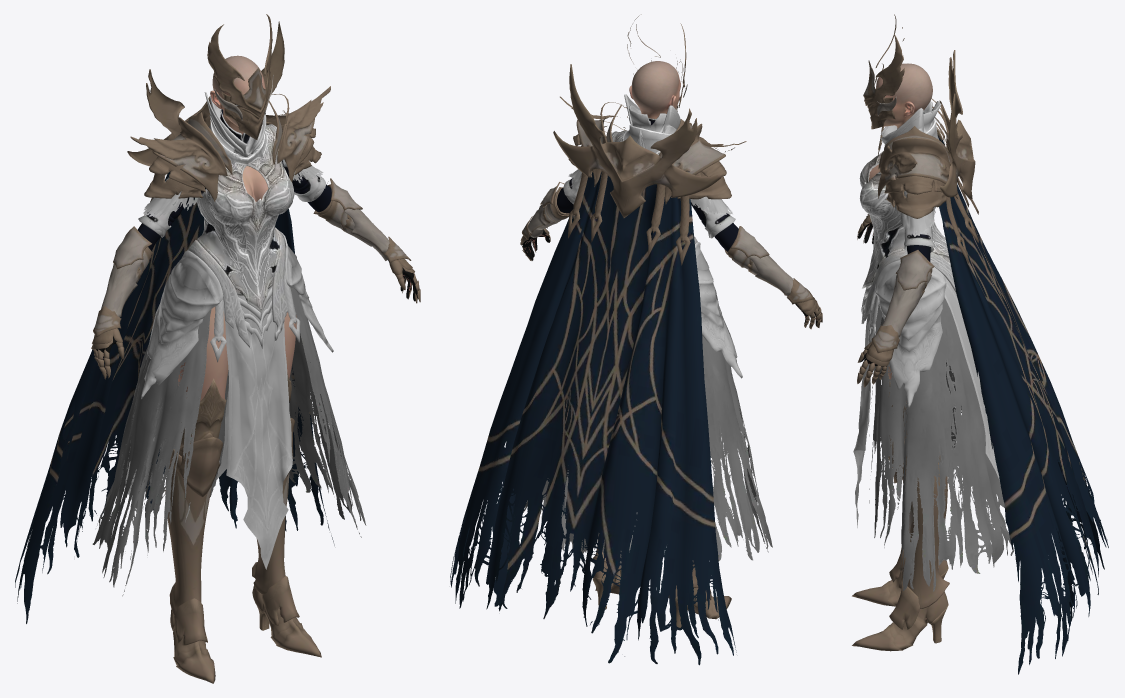
The picture shows the model from 3 angles, left to right: view 1: azimuth 30°, elevation 25°; view 2: azimuth 150°, elevation 25°; view 3: azimuth 270°, elevation 25°; orthographic projection. The views are drawn at different scales.
Parts seen in each view (by area): view 1: GF_Idris_01_Body, GF_Idris_01_Cape, GF_Idris_01_Boots, GF_Idris_01_Shoulder, GF_Idris_01_Glove, GF_Idris_01_Helmet, GF_Idris_01_Pants, GF_BaseHead; view 2: GF_Idris_01_Cape, GF_Idris_01_Body, GF_Idris_01_Glove, GF_Idris_01_Shoulder, GF_BaseHead, GF_Idris_01_Boots; view 3: GF_Idris_01_Body, GF_Idris_01_Cape, GF_Idris_01_Boots, GF_Idris_01_Shoulder, GF_Idris_01_Glove, GF_Idris_01_Helmet, GF_BaseHead.
Part boxes in pixels (x1,y1,x2,y2): GF_Idris_01_Body: (92, 92, 413, 596); GF_Idris_01_Cape: (15, 21, 334, 623); GF_Idris_01_Boots: (165, 418, 321, 683); GF_Idris_01_Shoulder: (130, 86, 330, 201); GF_Idris_01_Glove: (91, 178, 420, 379); GF_Idris_01_Helmet: (207, 14, 273, 139); GF_Idris_01_Pants: (174, 306, 296, 626); GF_BaseHead: (210, 55, 265, 134); GF_Idris_01_Cape: (450, 64, 736, 665); GF_Idris_01_Body: (523, 94, 817, 567); GF_Idris_01_Glove: (520, 182, 822, 329); GF_Idris_01_Shoulder: (560, 96, 746, 204); GF_BaseHead: (629, 61, 680, 118); GF_Idris_01_Boots: (592, 534, 731, 627); GF_Idris_01_Body: (853, 101, 1013, 591); GF_Idris_01_Cape: (937, 50, 1108, 674); GF_Idris_01_Boots: (852, 396, 949, 651); GF_Idris_01_Shoulder: (878, 98, 958, 218); GF_Idris_01_Glove: (857, 214, 934, 387); GF_Idris_01_Helmet: (863, 14, 904, 129); GF_BaseHead: (875, 63, 932, 128).
Size of the model in its own units: 1.04 by 1.96 by 0.7689.
Materials: 10 (9 with a texture image).
